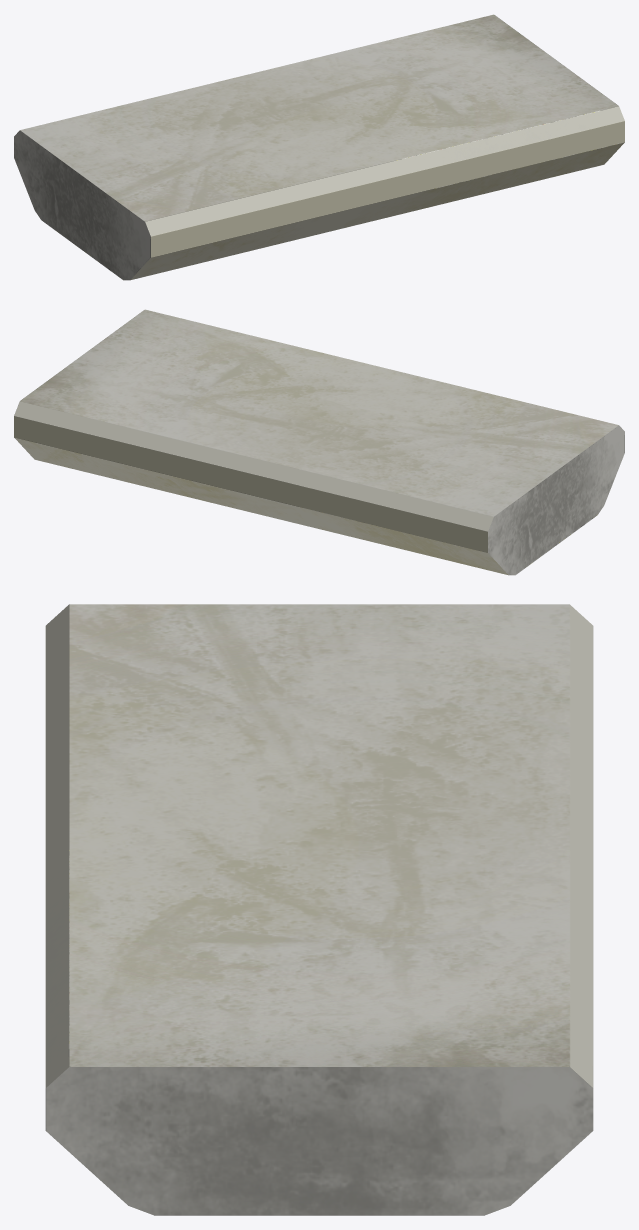
The model's file is wall_top_regular.glb.
3 views of the same model, one above another, from view 1: azimuth 30°, elevation 25°; view 2: azimuth 150°, elevation 25°; view 3: azimuth 270°, elevation 25° (orthographic). The views are drawn at different scales.
Parts seen in each view (by area): view 1: Cube.001; view 2: Cube.001; view 3: Cube.001.
Part boxes in pixels (x1,y1,x2,y2): Cube.001: (14, 14, 624, 280); Cube.001: (14, 309, 624, 575); Cube.001: (45, 604, 593, 1215).
Bounding box in the file's own units: 2 × 0.3 × 1.
1 material, 1 textured.
